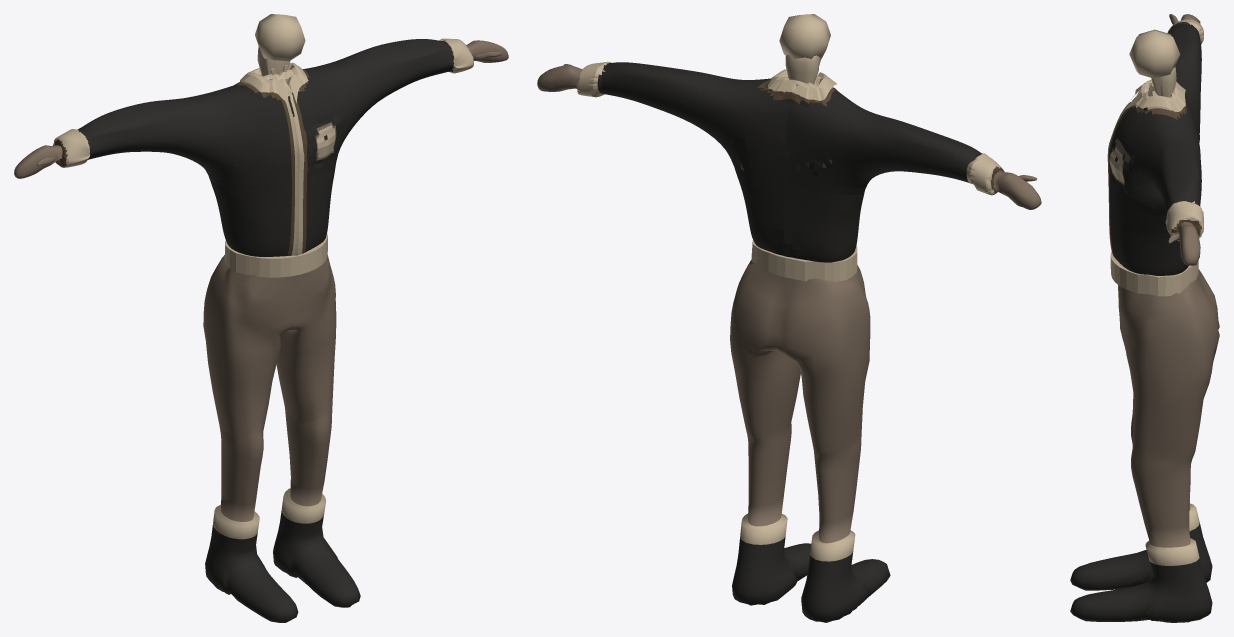
The model's file is HearthPlayerModel.fbx.
3 views of the same model, side by side, from view 1: azimuth 30°, elevation 25°; view 2: azimuth 150°, elevation 25°; view 3: azimuth 270°, elevation 25° (orthographic). The views are drawn at different scales.
Parts seen in each view (by area): view 1: Player; view 2: Player; view 3: Player.
Boxes of the visible parts, x1=… form: Player: x1=14, y1=14, x2=508, y2=622; Player: x1=537, y1=14, x2=1041, y2=622; Player: x1=1070, y1=14, x2=1219, y2=622.
Size of the model in its own units: 1139 by 1264 by 300.
